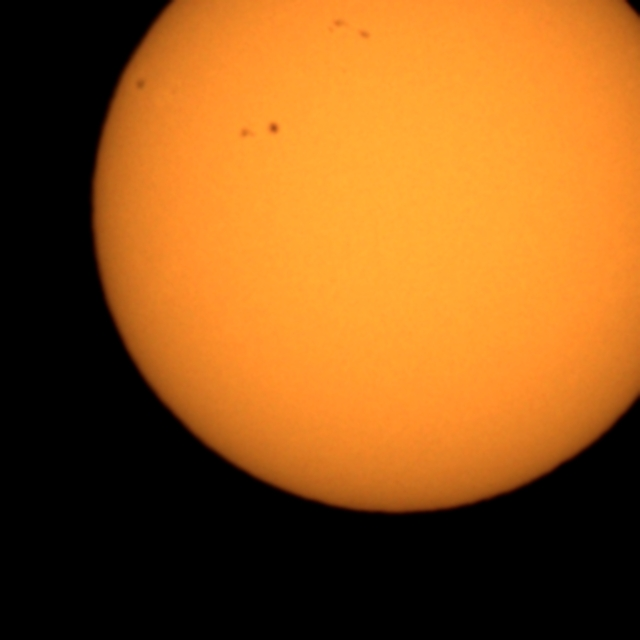sunspot: (325, 17, 374, 44), (236, 118, 283, 142), (265, 118, 283, 138), (236, 124, 255, 142), (132, 76, 148, 93)
